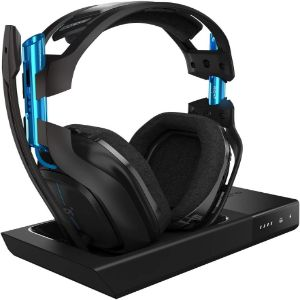headset: (1, 1, 246, 252)
